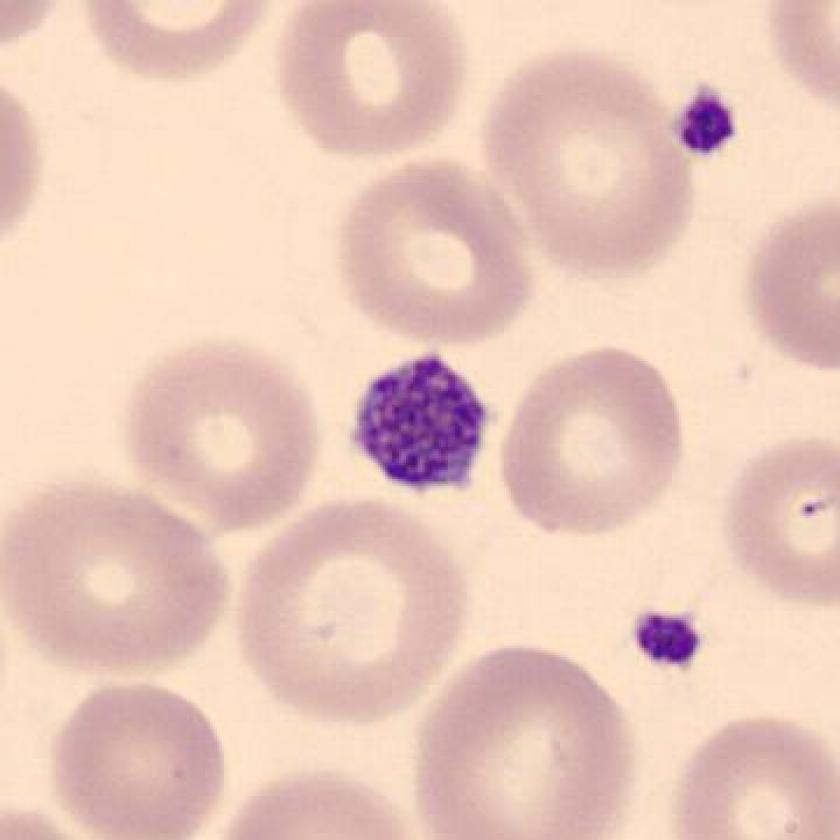platelets: (342, 344, 503, 506), (664, 78, 750, 166), (622, 598, 715, 677)
